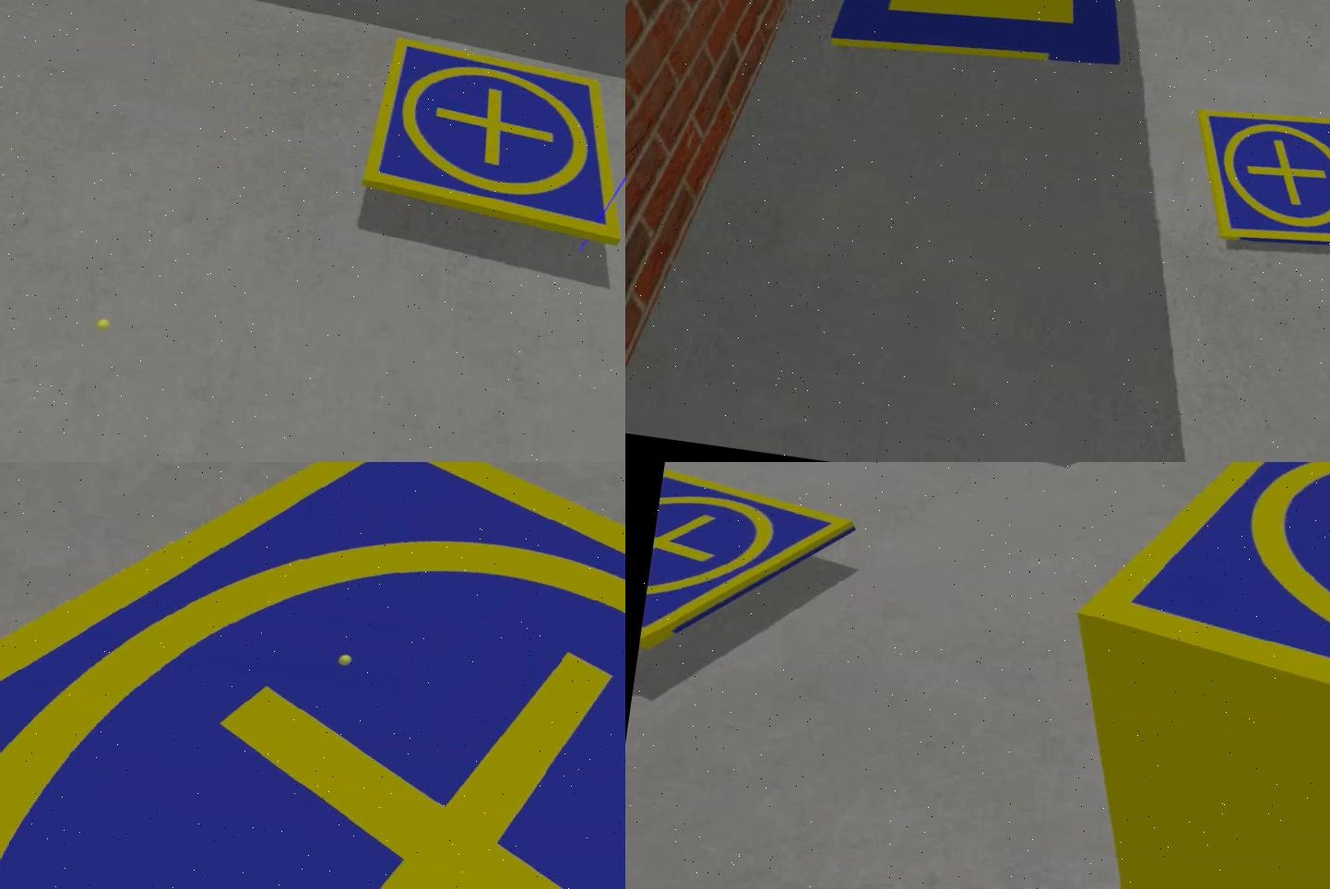large_base: (825, 1, 1144, 85)
small_base: (0, 462, 624, 889), (1059, 462, 1328, 838), (353, 34, 624, 249), (634, 471, 859, 679), (1175, 103, 1328, 266)
